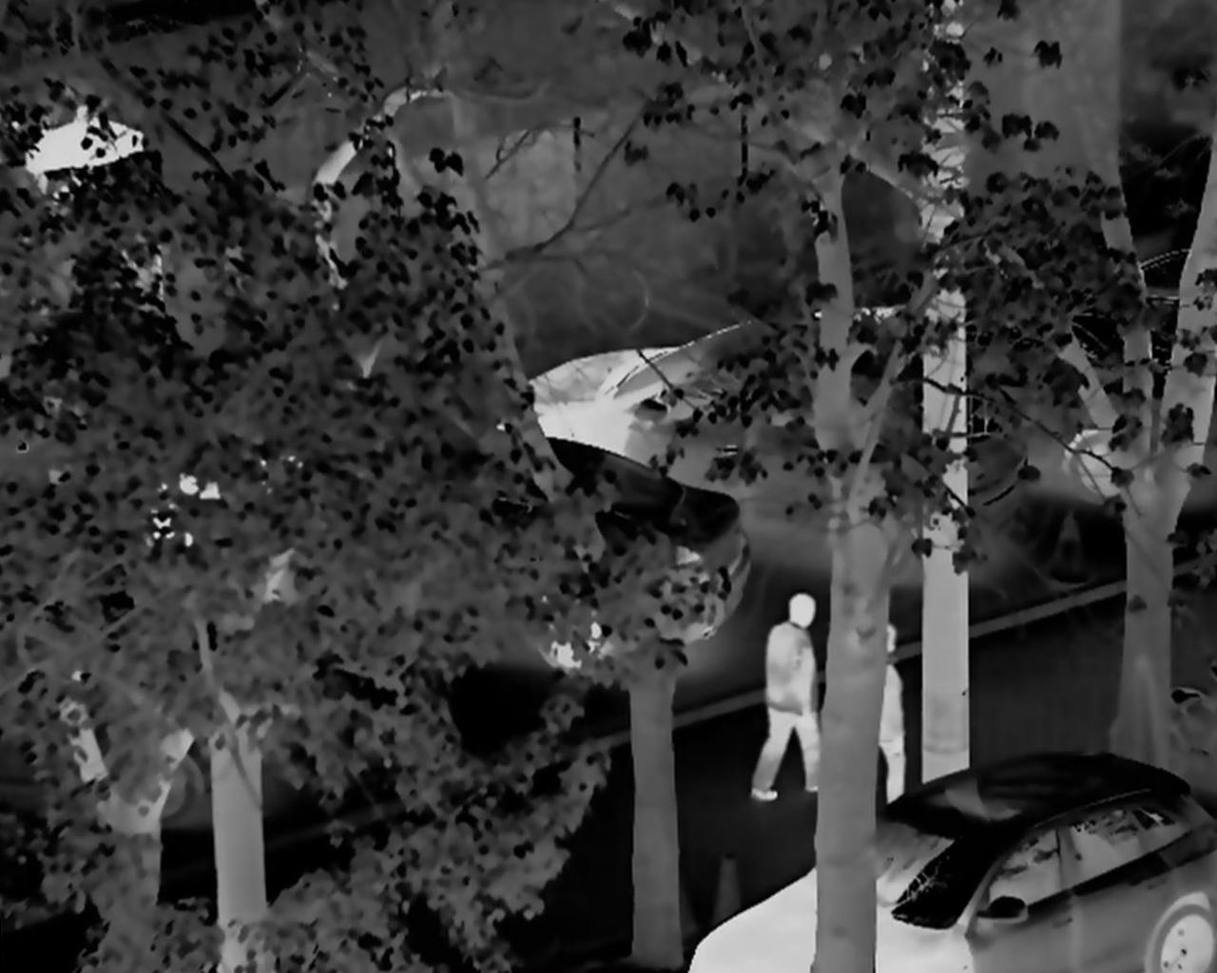person: (748, 585, 832, 798), (845, 620, 911, 805)
